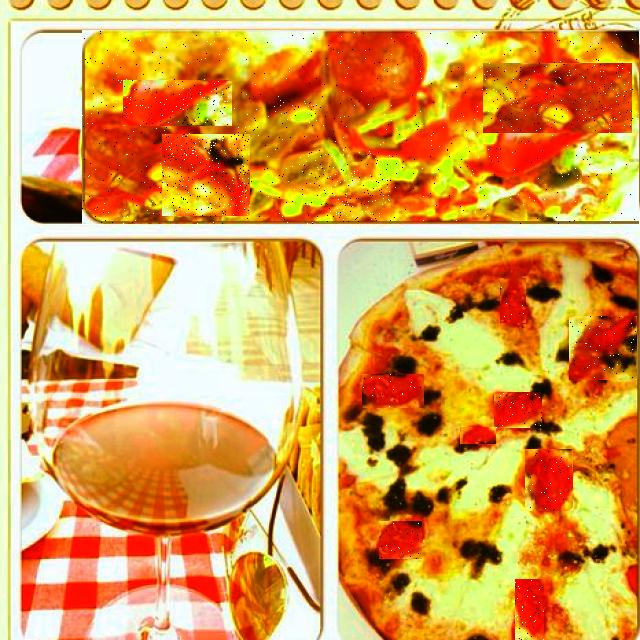Pepperoni: (484, 63, 634, 133), (302, 150, 397, 223)
Pizza: (82, 30, 640, 224)
Red Pepper: (162, 134, 250, 216), (123, 80, 232, 126), (272, 100, 320, 120)
Tomato: (569, 316, 637, 380), (525, 449, 573, 511), (362, 374, 424, 408), (515, 579, 544, 640), (494, 392, 542, 428), (379, 521, 422, 559), (501, 278, 526, 323), (461, 427, 496, 444)
